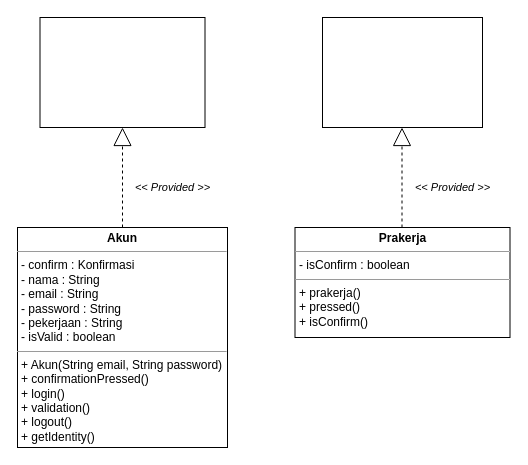
Some shapes in this 528 by 465 pixel diagram are drawn without their labels. The centre of each missing label's shape, as x and y in pixels:
<<Interface>> Autentikasi + login() + logout(): point 122,72
<<Interface>> Konfirmasi + pressed() + isConfirm(): point 402,72
